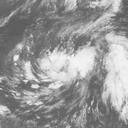cyclone: (37, 47, 97, 86)
